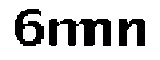6: (10, 6, 46, 49)
n: (80, 16, 113, 51), (47, 15, 78, 52), (119, 16, 149, 52)
